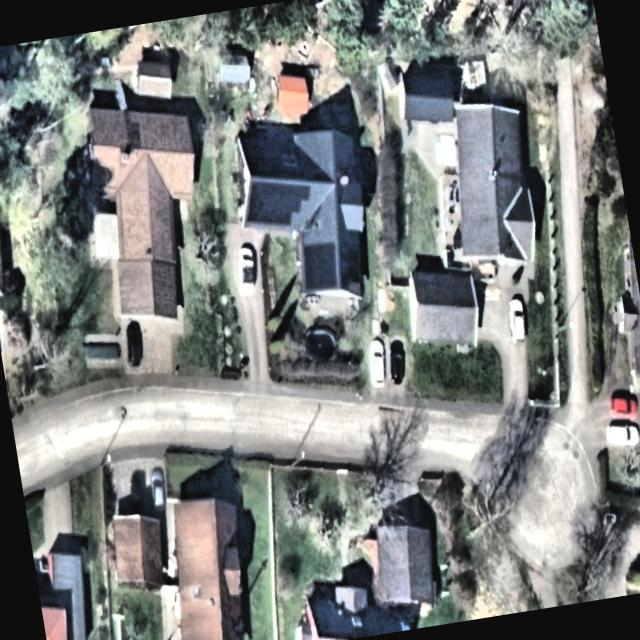roof_pv: (240, 173, 316, 235), (302, 242, 344, 292)
